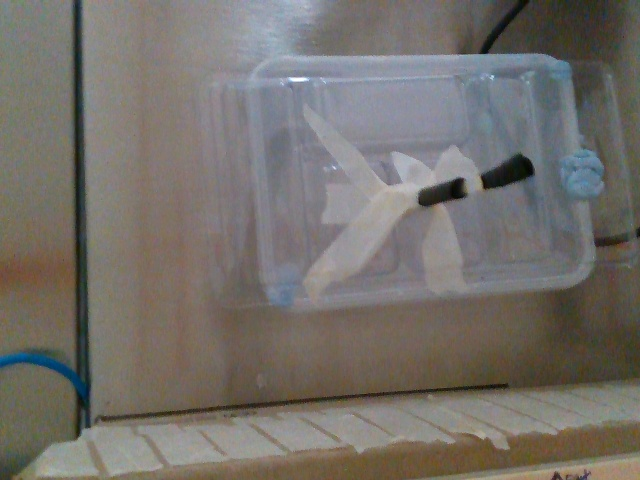test_strip: (463, 152, 533, 197)
